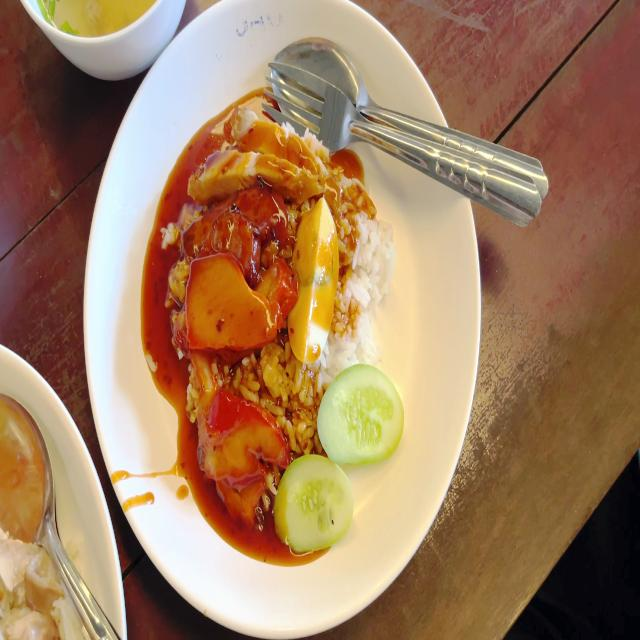boiled_egg: (291, 198, 340, 362)
chainese_sausage: (186, 186, 286, 265)
crispy_pork: (185, 105, 326, 200)
cucumber: (315, 364, 405, 463), (276, 456, 351, 550)
red_pork: (198, 391, 284, 511), (186, 255, 292, 346)
red_pork_and_crispy_pork: (158, 92, 407, 559)
